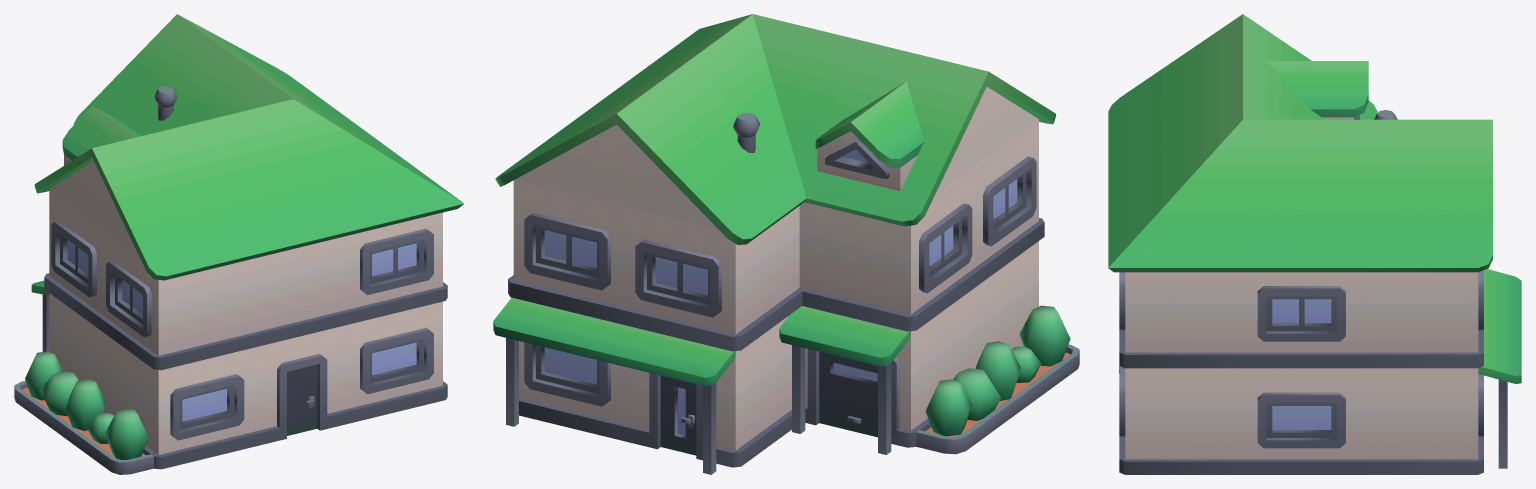
File: sub_building_type_f.glb
3 renders of one model, left to right at view 1: azimuth 30°, elevation 25°; view 2: azimuth 150°, elevation 25°; view 3: azimuth 270°, elevation 25°, orthographic. The views are drawn at different scales.
Parts seen in each view (by area): view 1: building-type-f; view 2: building-type-f; view 3: building-type-f.
Boxes of the visible parts, x1,y1,x2,y2 form: building-type-f: (14,14,464,474); building-type-f: (493,14,1079,474); building-type-f: (1108,14,1521,474).
Size of the model in its own units: 1.43 by 1.14 by 1.41.
Materials: 1 (1 with a texture image).
